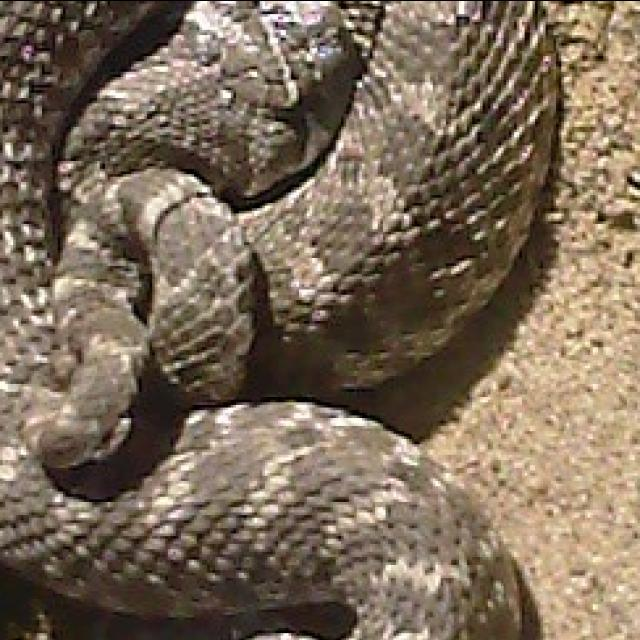Snake: (1, 0, 558, 640)
